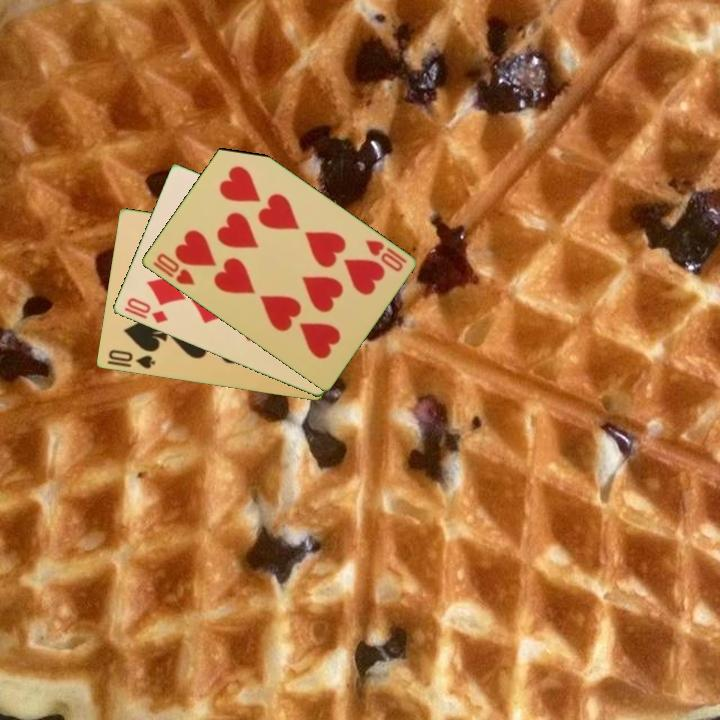10d: (120, 294, 171, 327)
10h: (148, 249, 198, 288), (361, 236, 409, 275)
10s: (105, 346, 158, 372)
